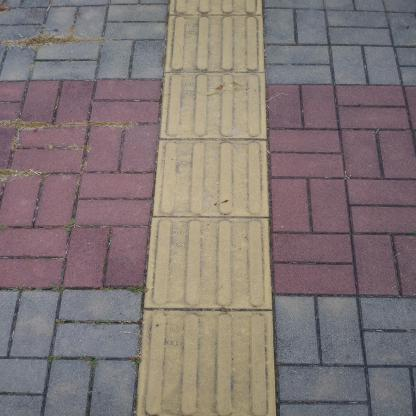podotacti: (120, 0, 292, 415)
